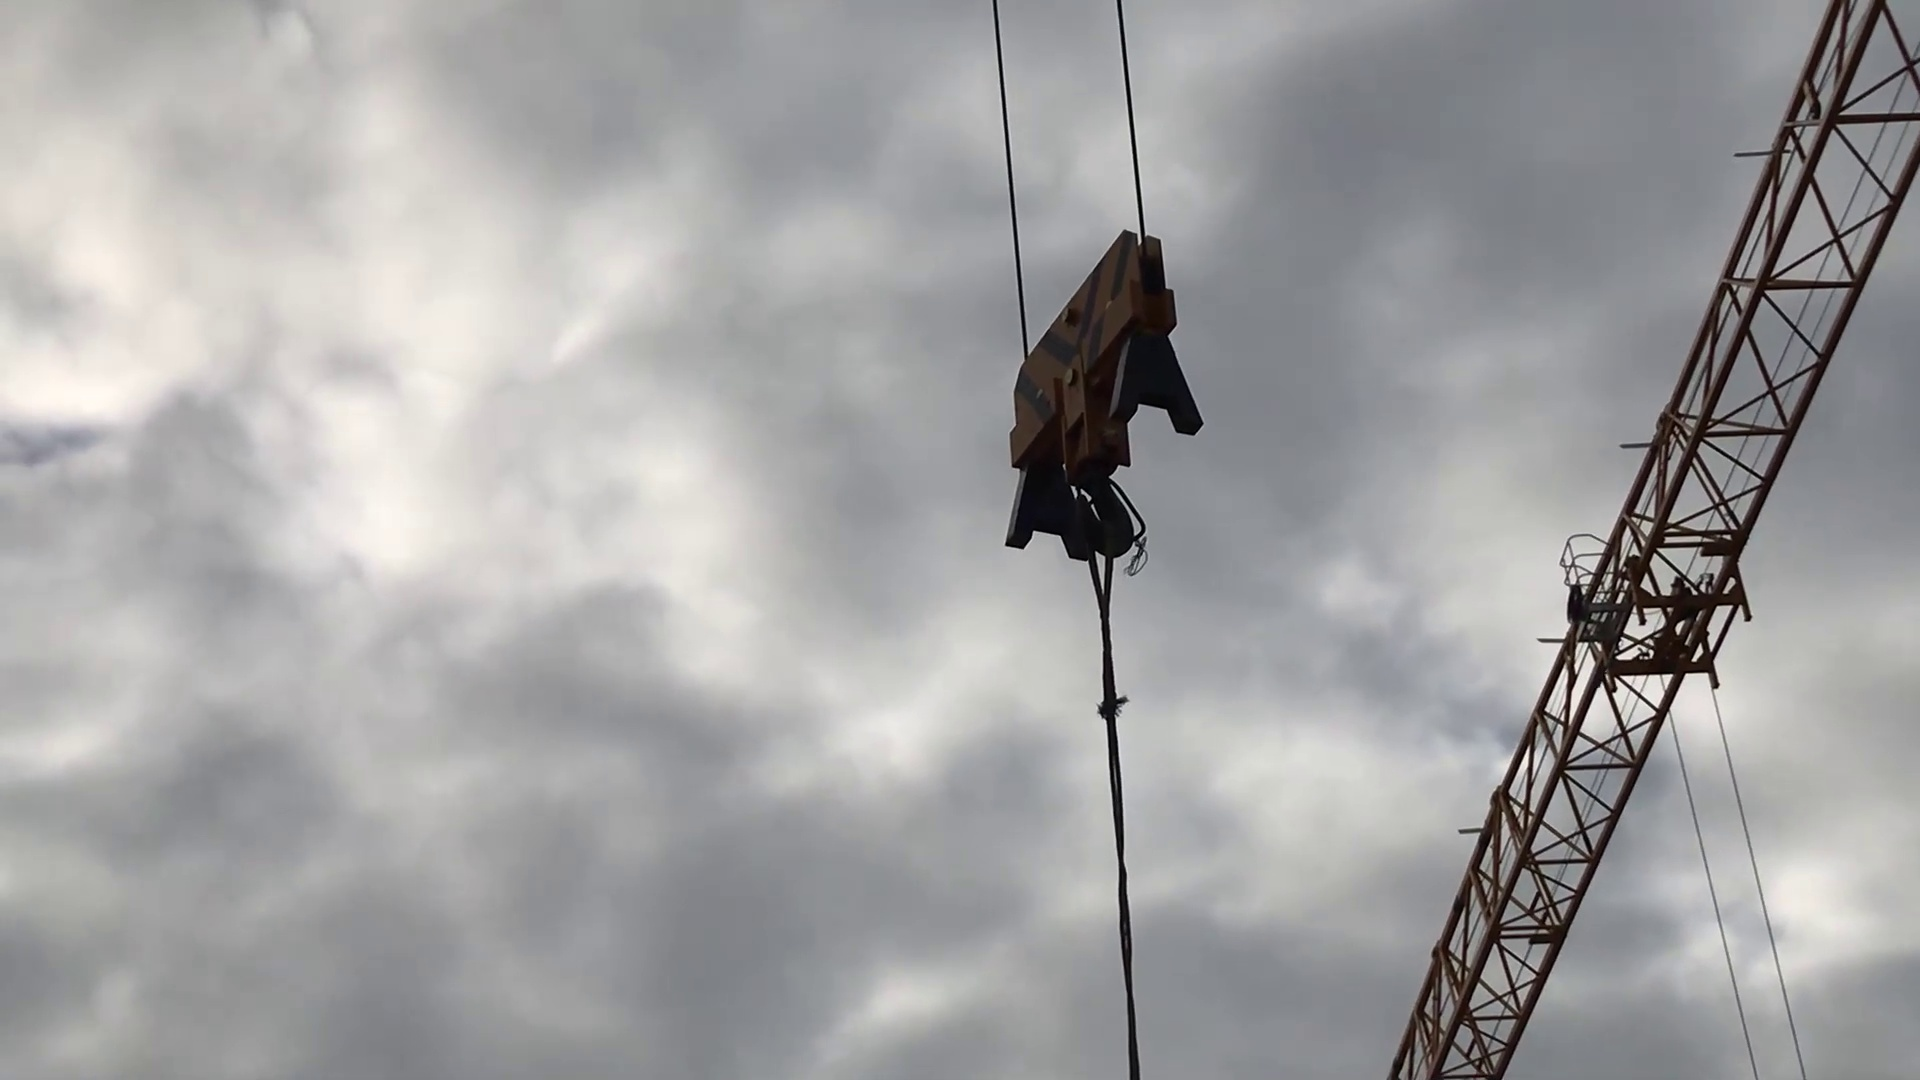hook: (996, 222, 1215, 571)
